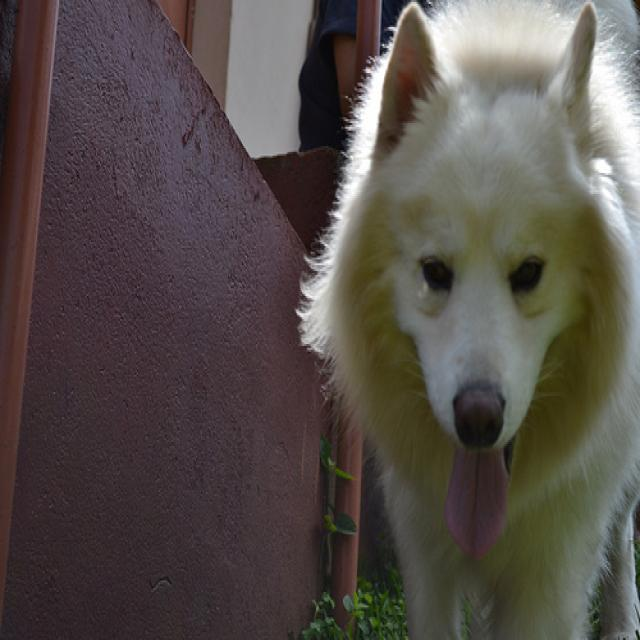dog-samoyed: (293, 2, 637, 636)
